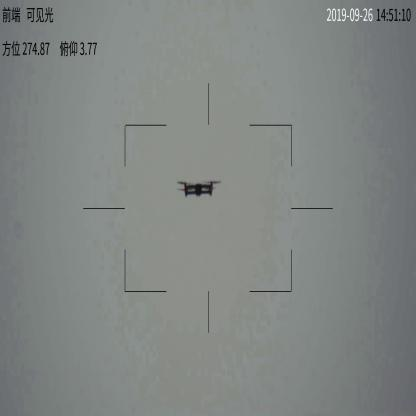uav: (172, 178, 216, 200)
